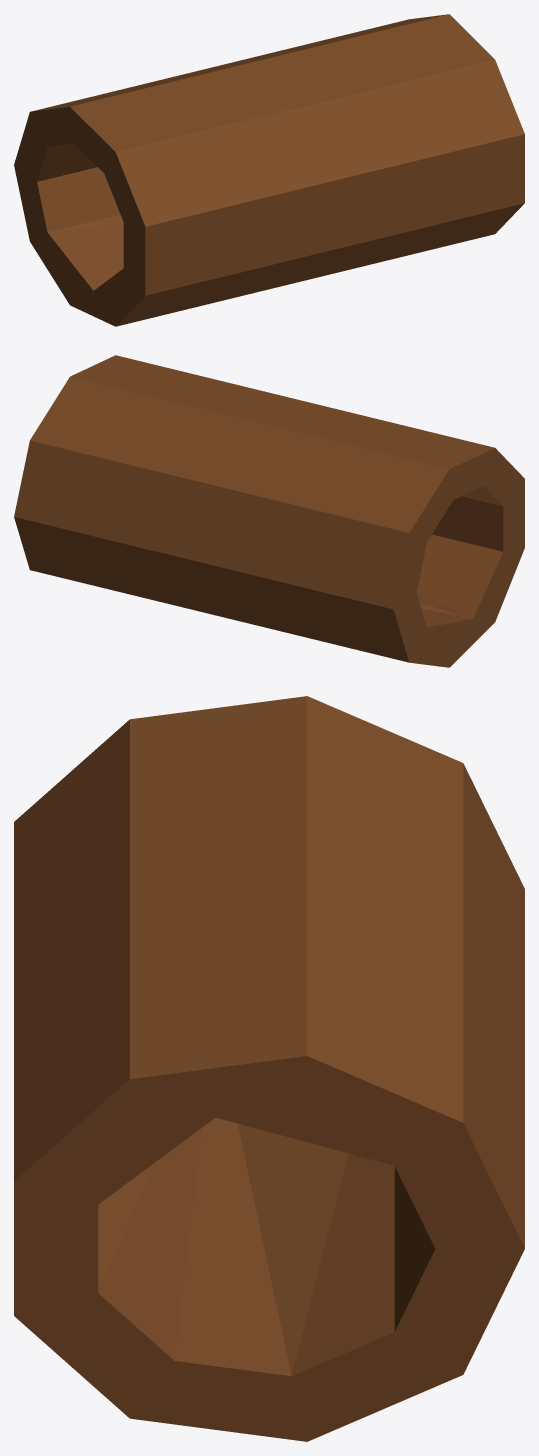
Rendered from terra_log_hide.fbx.
3 views of the same model, one above another, from view 1: azimuth 30°, elevation 25°; view 2: azimuth 150°, elevation 25°; view 3: azimuth 270°, elevation 25° (orthographic). The views are drawn at different scales.
Parts seen in each view (by area): view 1: terra_log_hide; view 2: terra_log_hide; view 3: terra_log_hide.
Part boxes in pixels (left/top/right/bottom): terra_log_hide: left=14, top=14, right=524, bottom=326; terra_log_hide: left=14, top=355, right=524, bottom=667; terra_log_hide: left=14, top=696, right=524, bottom=1441.
Bounding box in the file's own units: 1 × 0.5 × 0.6.
